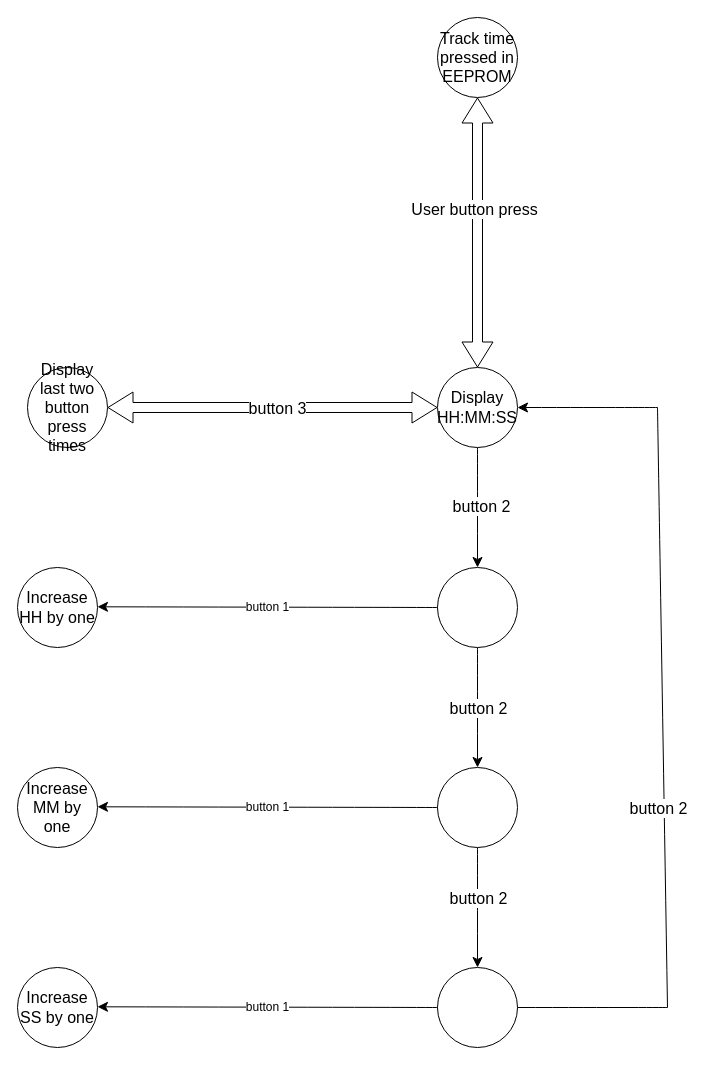
Image size: 704x1065. Some labels were removed from this diagram. The box of each missing label's shape, as (x1, y1, x2, y2) in pixels:
Change HH state: (436, 566, 518, 648)
Change MM state: (436, 766, 518, 848)
Change SS state: (436, 966, 518, 1048)
